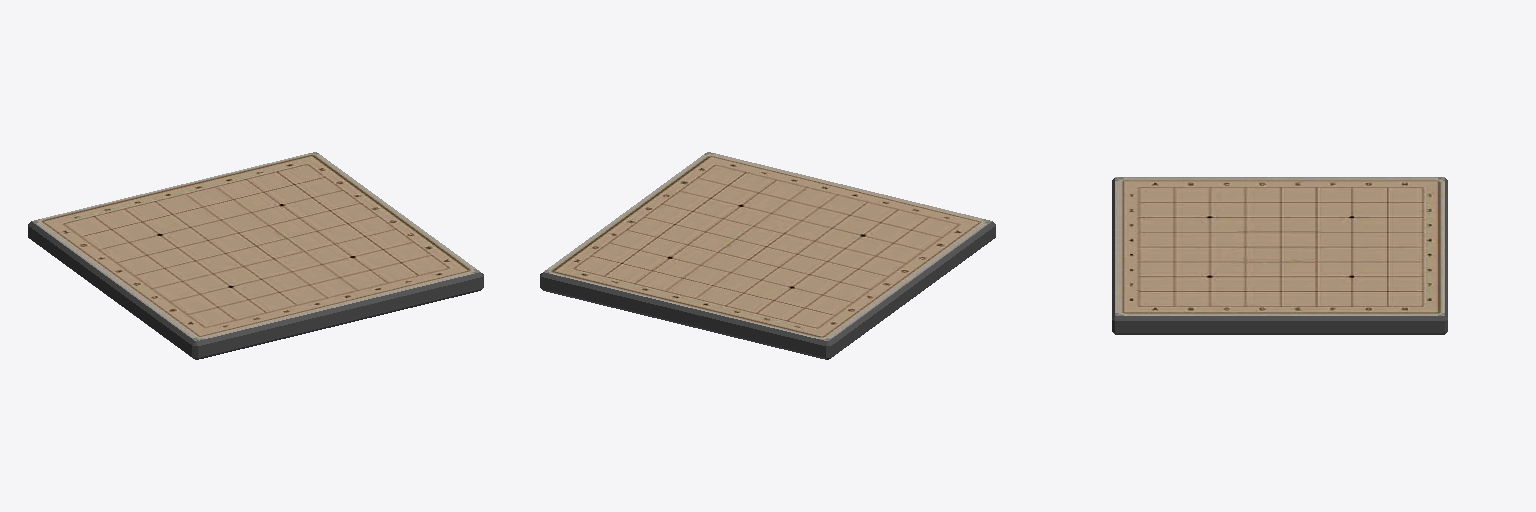
3 renders of one model, left to right at view 1: azimuth 30°, elevation 25°; view 2: azimuth 150°, elevation 25°; view 3: azimuth 270°, elevation 25°, orthographic.
Visible parts, largest first — view 1: Cube_Cube.001; view 2: Cube_Cube.001; view 3: Cube_Cube.001.
Part boxes in pixels (x1,y1,x2,y2): Cube_Cube.001: (28,152,483,359); Cube_Cube.001: (540,152,995,359); Cube_Cube.001: (1112,177,1447,334).
Bounding box in the file's own units: 24.76 × 1.53 × 24.76.
Materials: 1 (1 with a texture image).